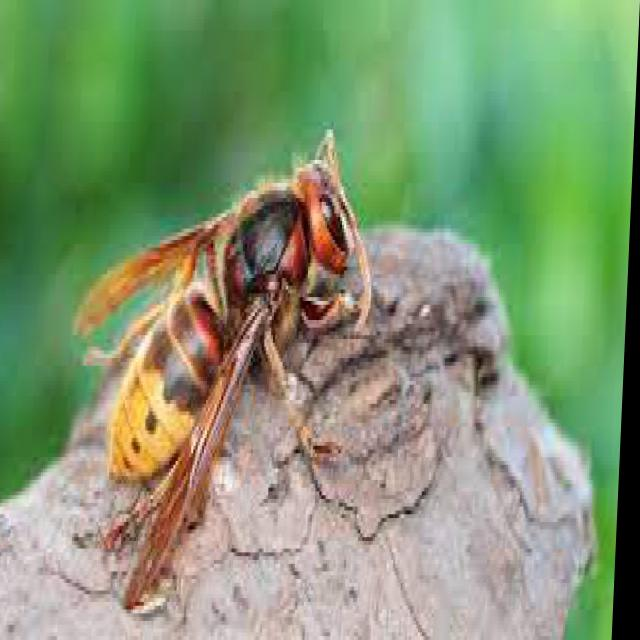Vespa Orientalis: (45, 112, 388, 620)
